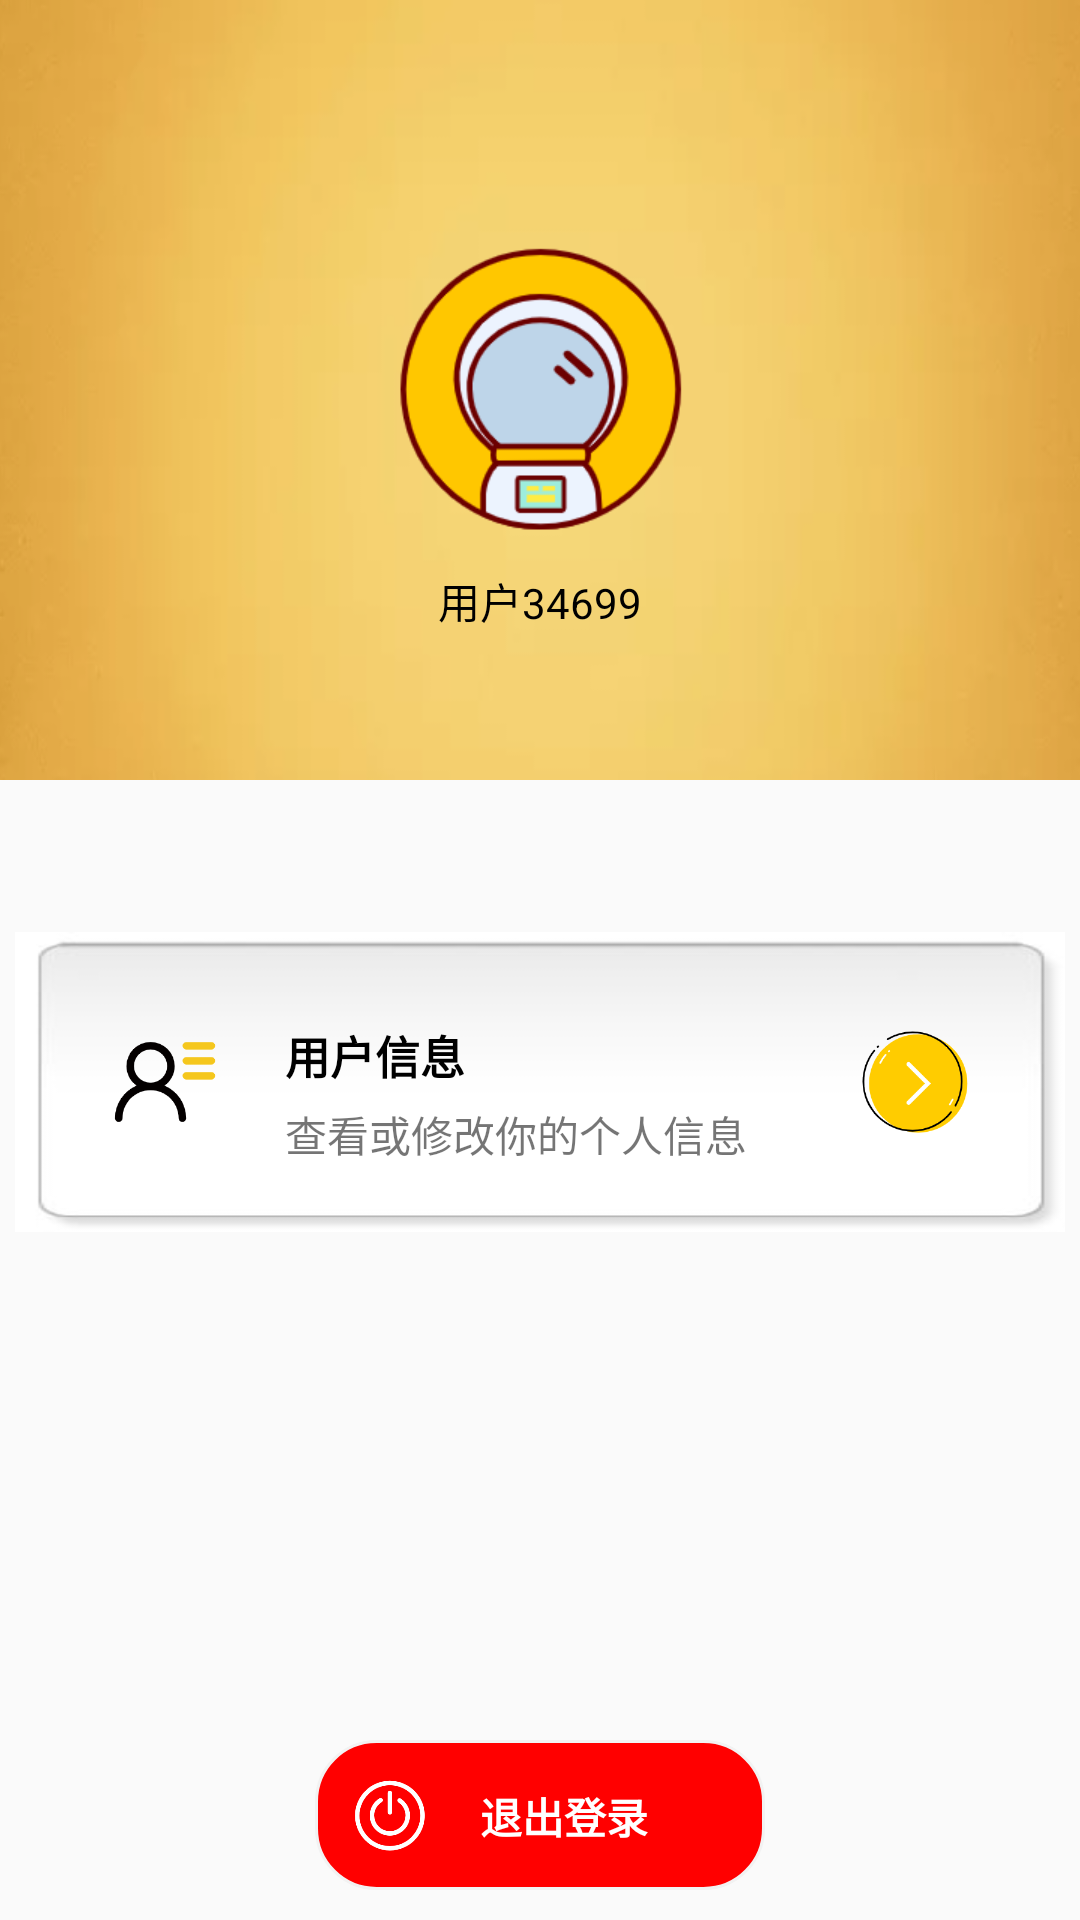

Icon bounding boxes for this 1080px x 1920px phone screenshot, format {"left": x1, "top": y1, "right": x2, "bottom": y2}:
arrow: {"left": 862, "top": 1031, "right": 968, "bottom": 1133}
defalut head: {"left": 400, "top": 248, "right": 682, "bottom": 530}
information: {"left": 115, "top": 1042, "right": 216, "bottom": 1122}
outwhite: {"left": 355, "top": 1780, "right": 425, "bottom": 1851}
